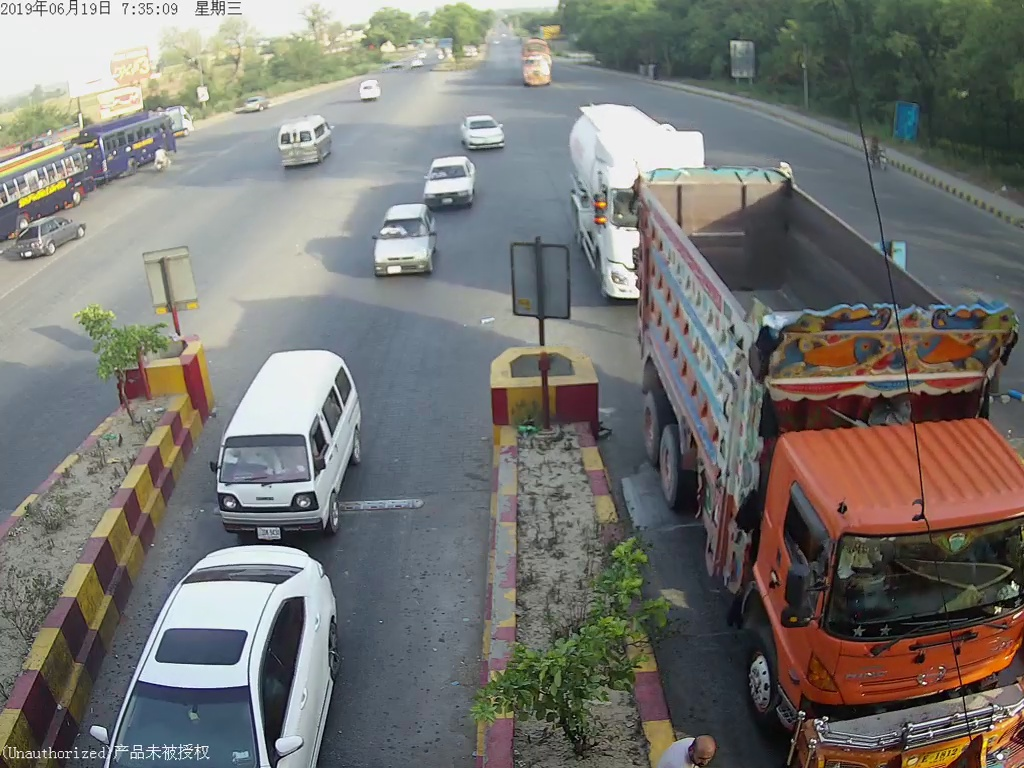Cat-1: (210, 349, 370, 546), (370, 202, 437, 285), (422, 159, 488, 205), (461, 110, 505, 149)
Cat-4: (634, 168, 1024, 766)
